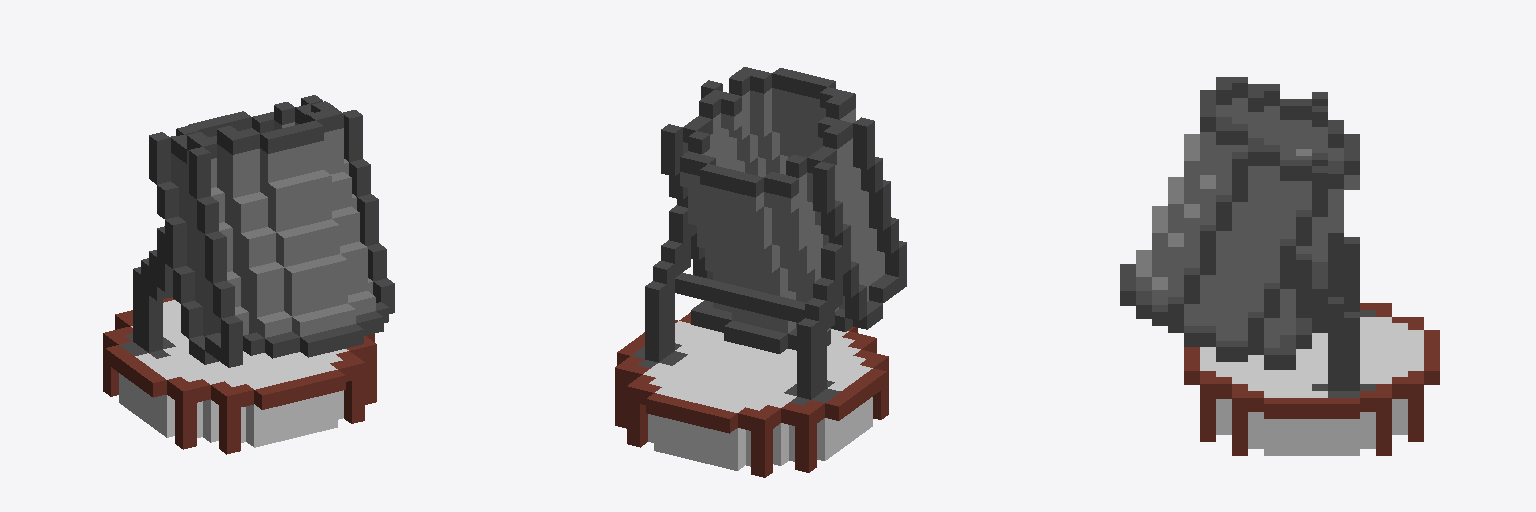
3 renders of one model, left to right at view 1: azimuth 30°, elevation 25°; view 2: azimuth 150°, elevation 25°; view 3: azimuth 270°, elevation 25°, orthographic.
Visible parts, largest first — view 1: object 1; view 2: object 1; view 3: object 1.
Part boxes in pixels (x1,y1,x2,y2): object 1: (103,95,394,454); object 1: (615,67,906,477); object 1: (1120,77,1439,455).
Size of the model in its own units: 1.6 by 2.1 by 2.
1 materials, 1 textured.